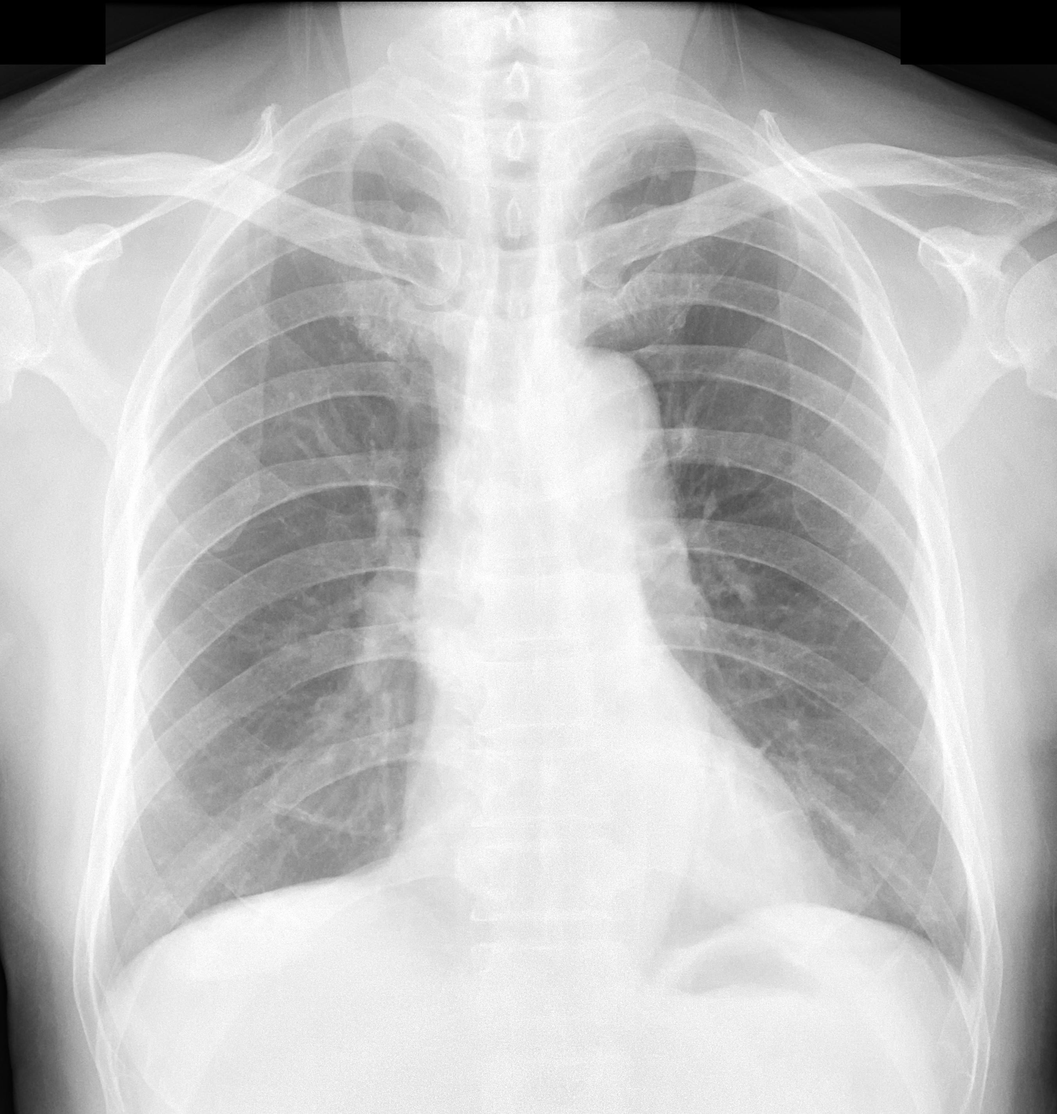Aortic enlargement: (509, 343, 663, 501)
Cardiomegaly: (394, 749, 852, 931)
Pleural thickening: (274, 116, 408, 187), (599, 124, 752, 179)
